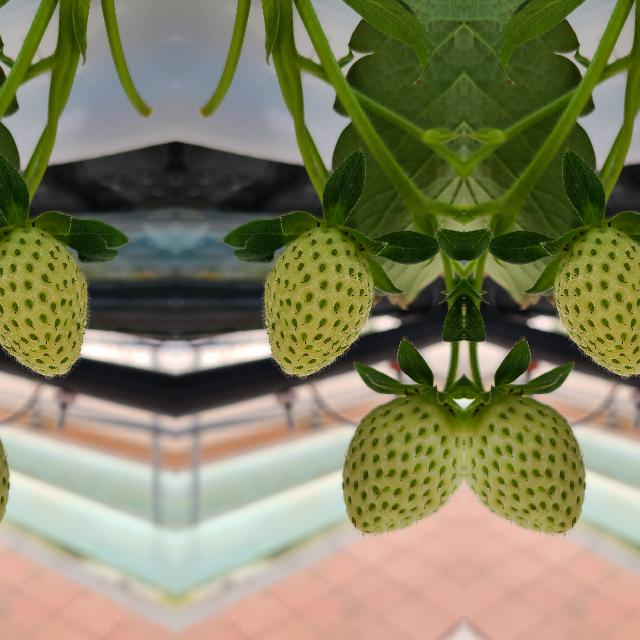Health_25: (339, 392, 463, 534), (463, 392, 587, 534), (264, 228, 372, 374), (553, 227, 640, 374), (0, 227, 86, 374)
